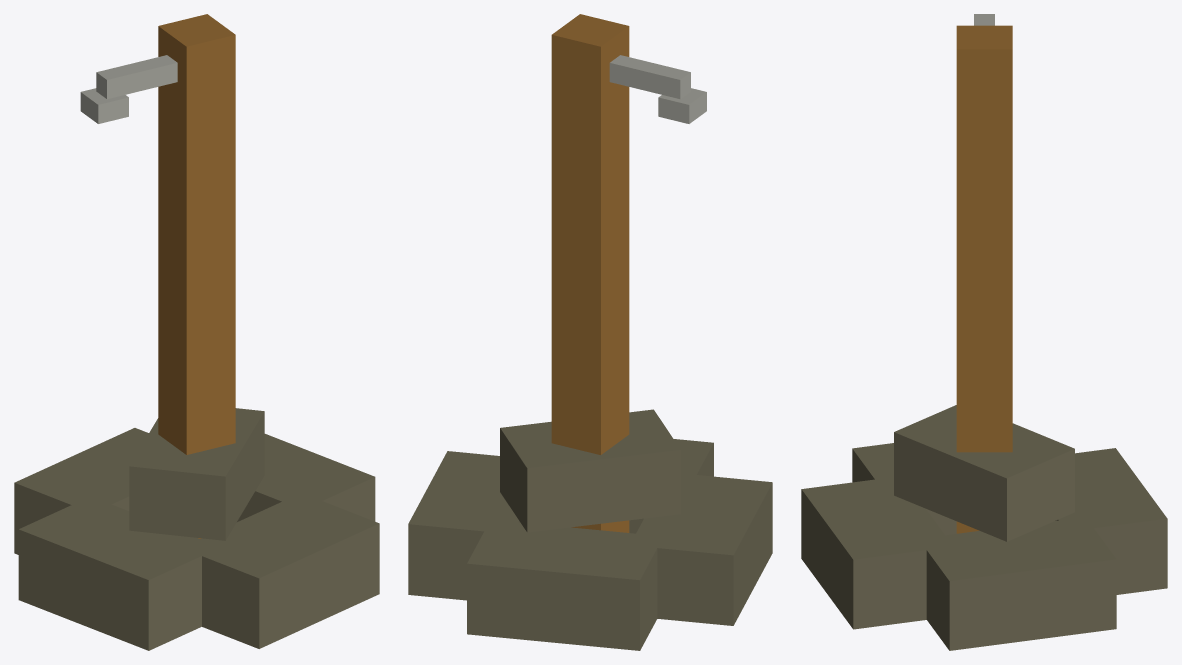
Rendered from SM_PosteFoco_v1_Madera_LOD0.fbx.
3 views of the same model, side by side, from view 1: azimuth 30°, elevation 25°; view 2: azimuth 150°, elevation 25°; view 3: azimuth 270°, elevation 25° (orthographic).
Visible parts, largest first — view 1: SM_poste_foco_v1_LOD0; view 2: SM_poste_foco_v1_LOD0; view 3: SM_poste_foco_v1_LOD0.
Boxes of the visible parts, x1,y1,x2,y2 form: SM_poste_foco_v1_LOD0: (14, 14, 379, 650); SM_poste_foco_v1_LOD0: (408, 14, 772, 650); SM_poste_foco_v1_LOD0: (801, 14, 1167, 650).
Size of the model in its own units: 1.05 by 1.7 by 1.05.
